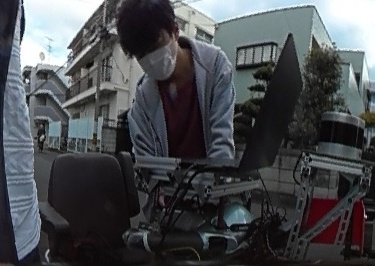person: (112, 2, 239, 160), (35, 122, 47, 149)
